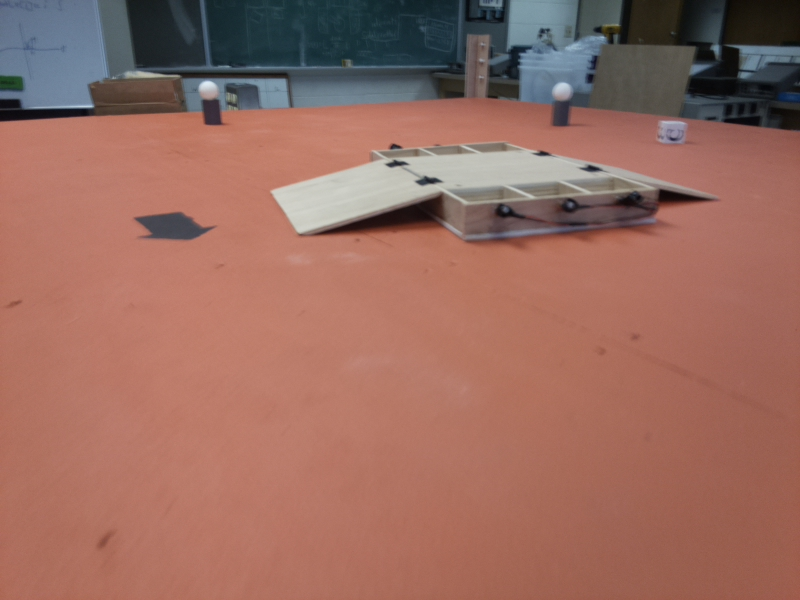blockC: (652, 119, 688, 152)
corner: (460, 33, 497, 98)
obstacle: (550, 80, 573, 135), (199, 81, 224, 129)
side: (452, 188, 673, 230)
slope: (271, 163, 447, 244)
start: (130, 199, 216, 253)
